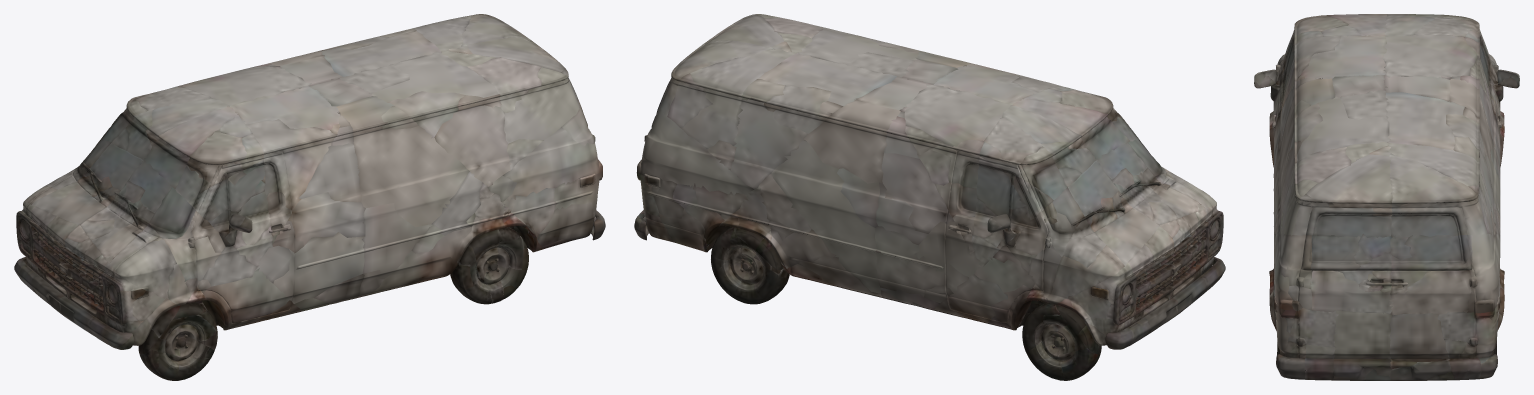
File: car_van_light_q2.glb
3 views of the same model, side by side, from view 1: azimuth 30°, elevation 25°; view 2: azimuth 150°, elevation 25°; view 3: azimuth 270°, elevation 25° (orthographic). The views are drawn at different scales.
Bounding box in the file's own units: 0.0488 × 0.02 × 0.0217.
1 material, 1 textured.
